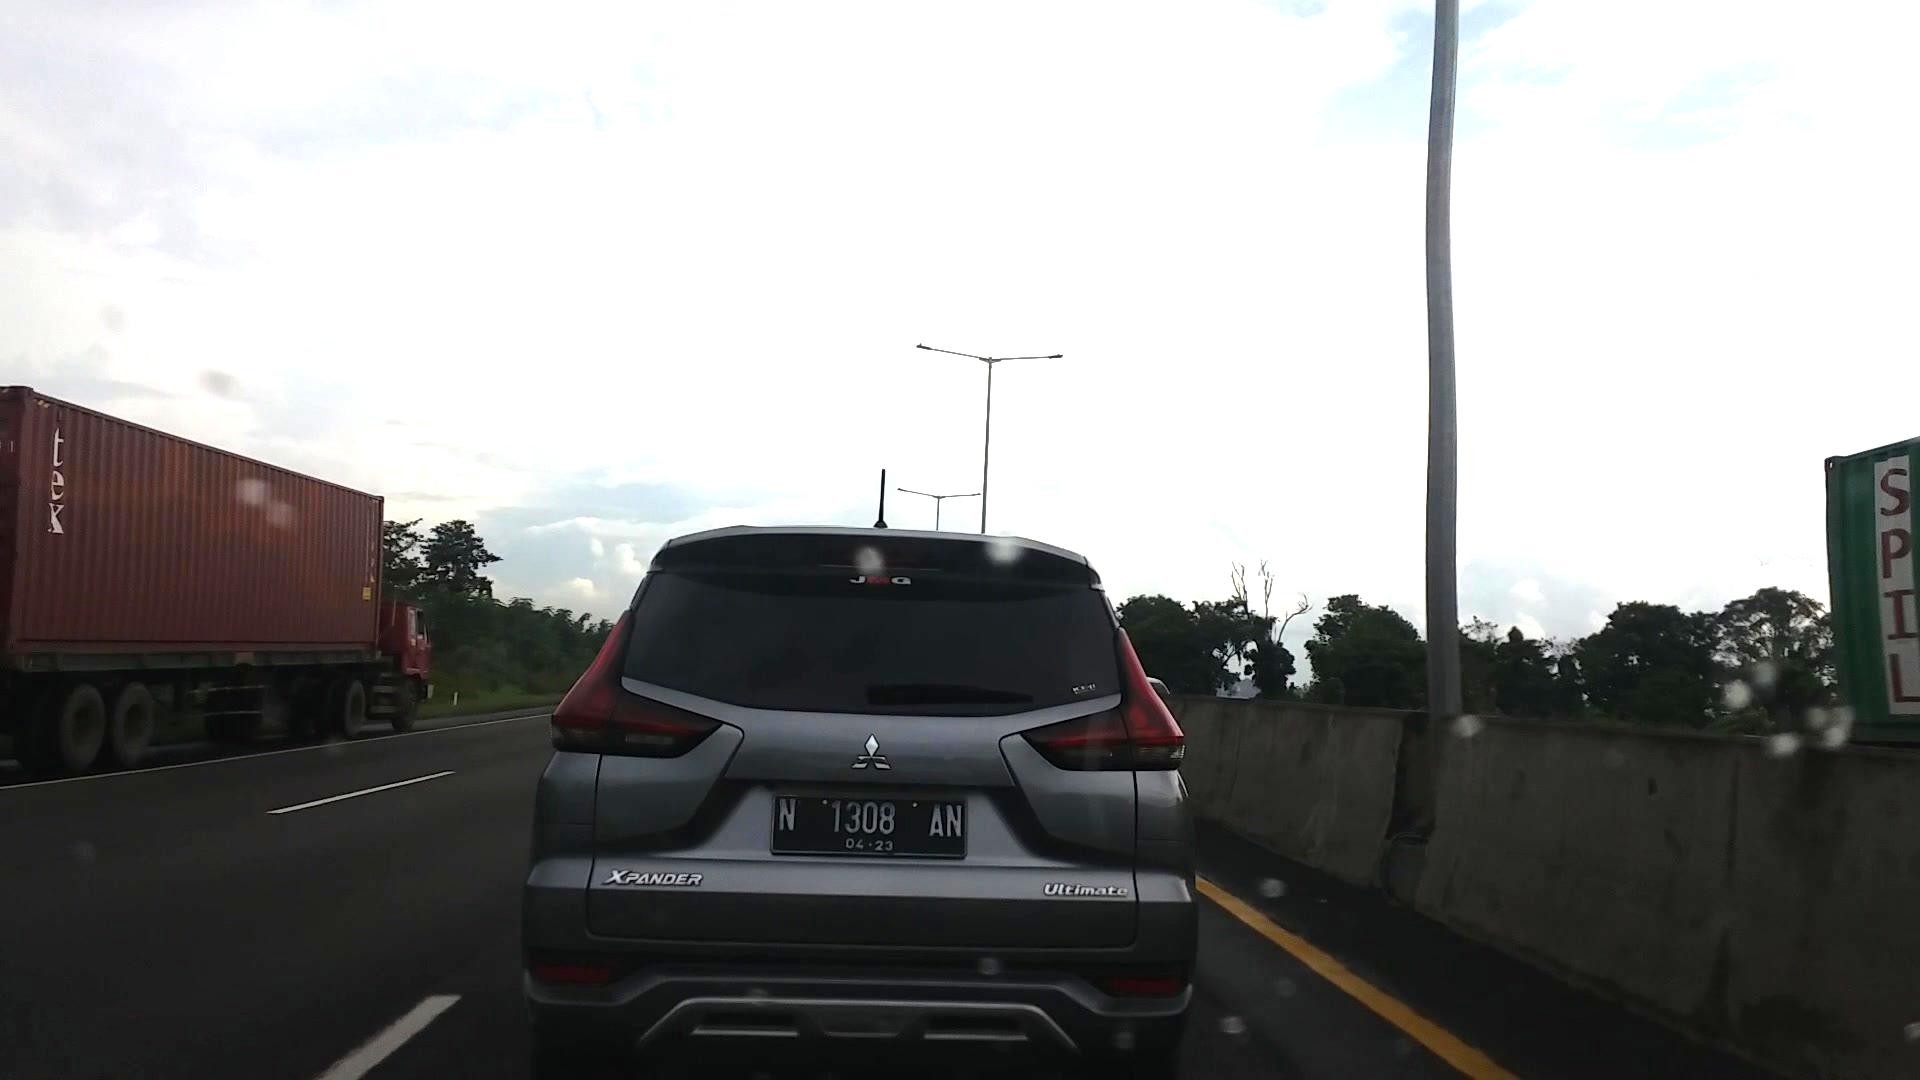plate_positive: (770, 794, 967, 858)
